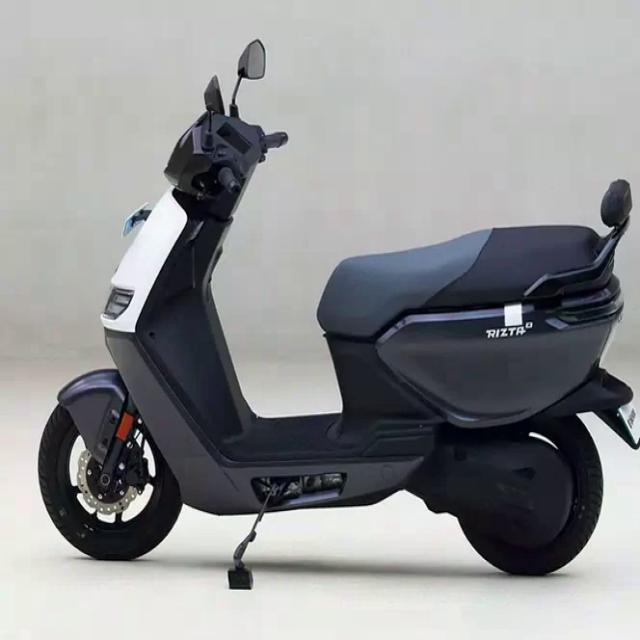objects: (7, 18, 640, 604)
